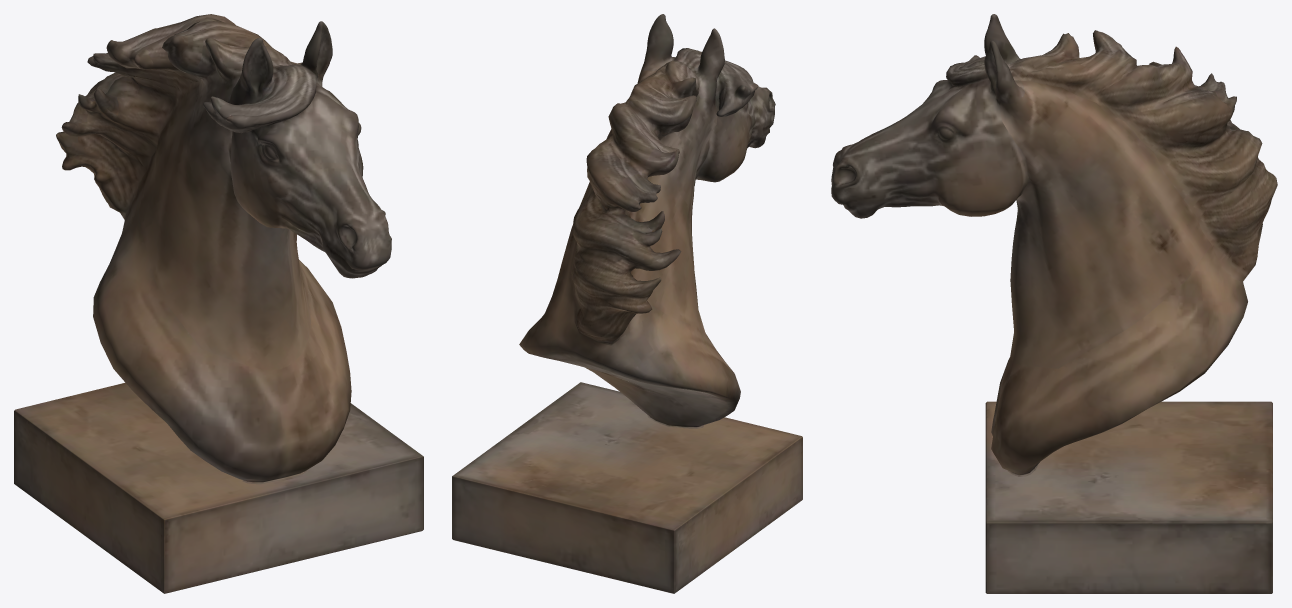
Rendered from horse_head.glb.
3 views of the same model, side by side, from view 1: azimuth 30°, elevation 25°; view 2: azimuth 150°, elevation 25°; view 3: azimuth 270°, elevation 25° (orthographic). The views are drawn at different scales.
Visible parts, largest first — view 1: horse_head; view 2: horse_head; view 3: horse_head.
Boxes of the visible parts, x1,y1,x2,y2 form: horse_head: (14,14,423,593); horse_head: (452,14,802,593); horse_head: (831,14,1277,593).
Size of the model in its own units: 0.2149 by 0.4187 by 0.3341.
Materials: 1 (1 with a texture image).
